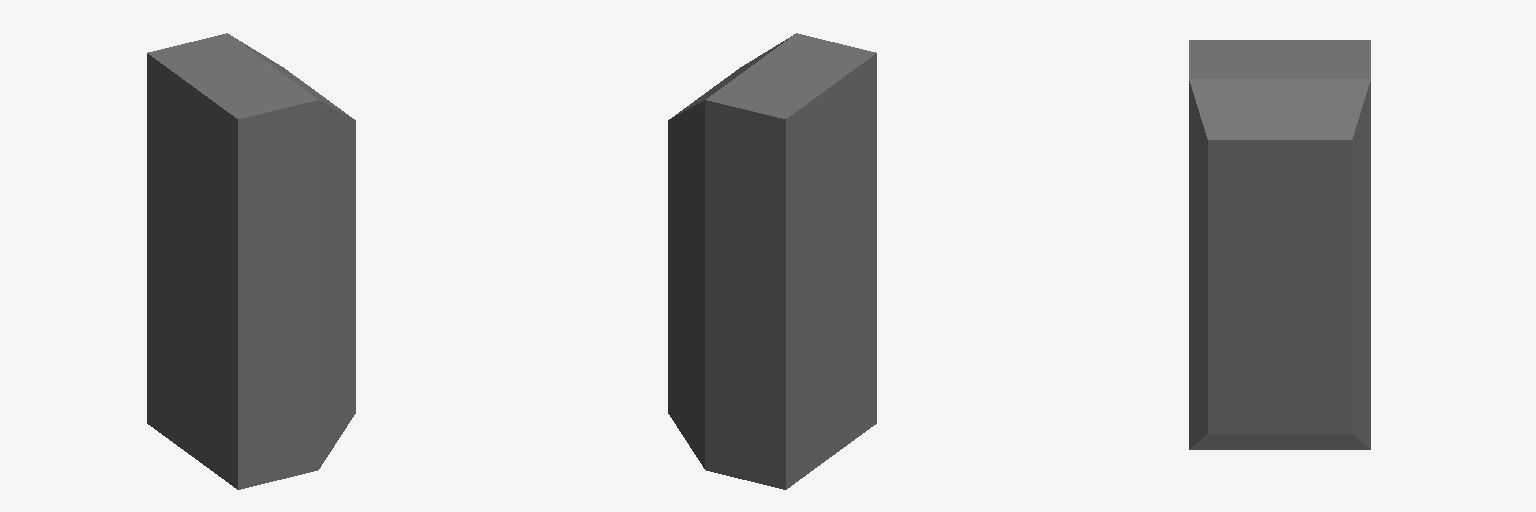
The model's file is decoration.obj.
3 views of the same model, side by side, from view 1: azimuth 30°, elevation 25°; view 2: azimuth 150°, elevation 25°; view 3: azimuth 270°, elevation 25° (orthographic).
Visible parts, largest first — view 1: randomDeco knobsNJunk; view 2: randomDeco knobsNJunk; view 3: randomDeco knobsNJunk.
Boxes of the visible parts, box(x1,y1,x2,y2) form: randomDeco knobsNJunk: box(147, 33, 355, 489); randomDeco knobsNJunk: box(668, 33, 876, 489); randomDeco knobsNJunk: box(1189, 40, 1370, 449).
Size of the model in its own units: 1.58 by 4.4 by 1.96.